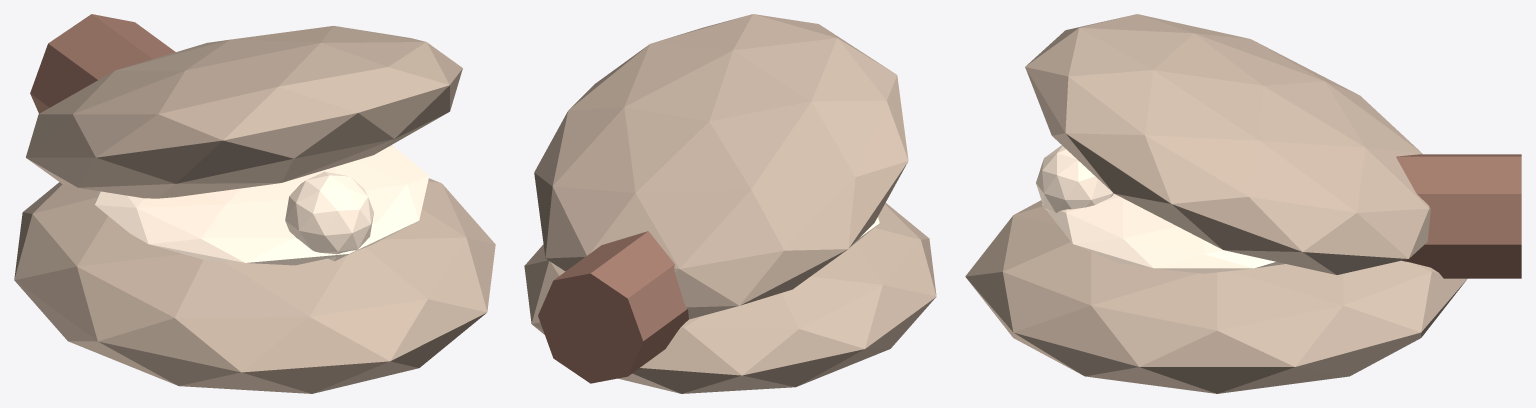
File: env_shell_clam.glb
3 views of the same model, side by side, from view 1: azimuth 30°, elevation 25°; view 2: azimuth 150°, elevation 25°; view 3: azimuth 270°, elevation 25° (orthographic). The views are drawn at different scales.
Parts seen in each view (by area): view 1: env_shell_clam; view 2: env_shell_clam; view 3: env_shell_clam.
Boxes of the visible parts, x1,y1,x2,y2 form: env_shell_clam: (14, 14, 495, 393); env_shell_clam: (524, 14, 936, 393); env_shell_clam: (965, 14, 1521, 393).
Bounding box in the file's own units: 0.3234 × 0.2459 × 0.4204.
